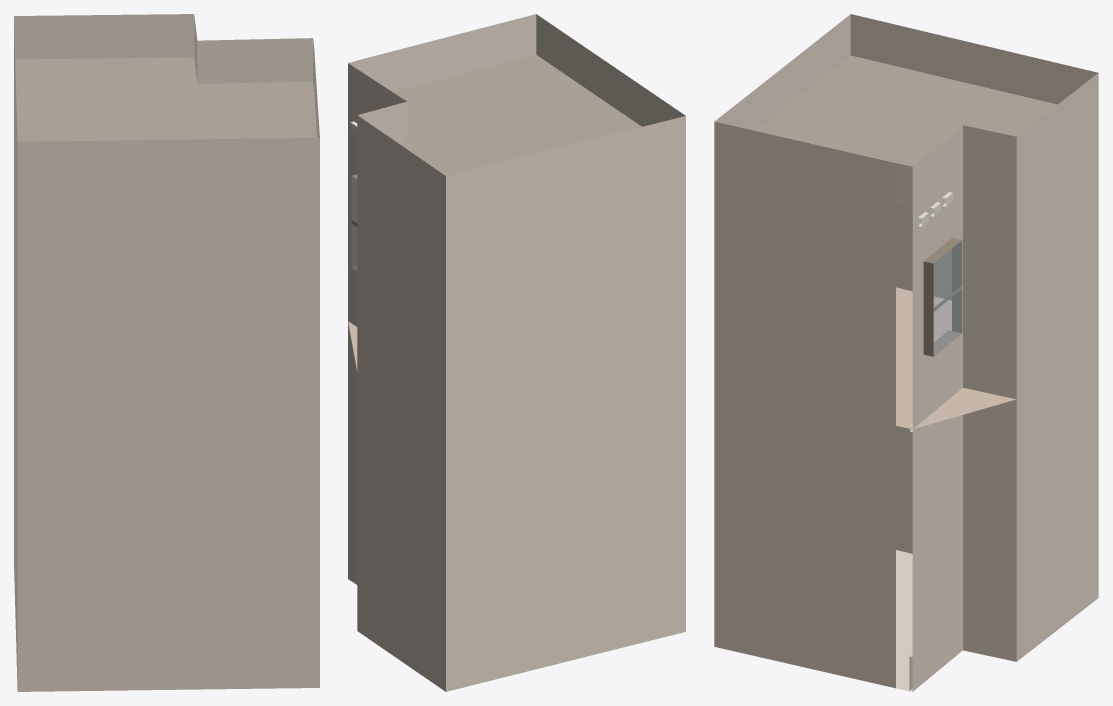
Rendered from N-50.south_two_storey_lightwell_wing.glb.
The picture shows the model from 3 angles, left to right: view 1: azimuth 30°, elevation 25°; view 2: azimuth 150°, elevation 25°; view 3: azimuth 270°, elevation 25°; orthographic projection. The views are drawn at different scales.
Parts seen in each view (by area): view 1: N-50.south_two_storey_lightwell_wing; view 2: N-50.south_two_storey_lightwell_wing; view 3: N-50.south_two_storey_lightwell_wing.
Part boxes in pixels (<box>): N-50.south_two_storey_lightwell_wing: <box>14,14,319,691</box>; N-50.south_two_storey_lightwell_wing: <box>348,14,685,691</box>; N-50.south_two_storey_lightwell_wing: <box>714,14,1098,691</box>.
Bounding box in the file's own units: 4.74 × 7.6 × 5.04.
